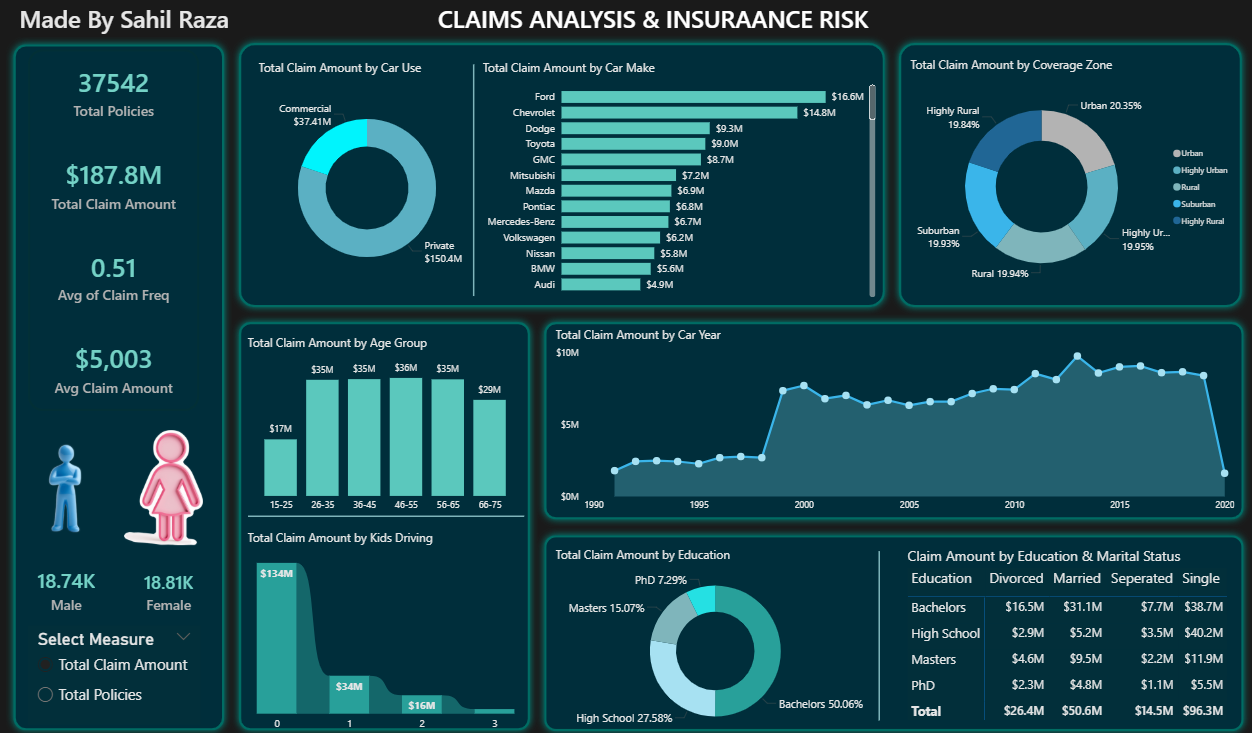

Layout of this report page (visuals, bound fields, positions):
{"tool":"powerbi","page":{"name":"Page 1","canvas":[1700,1000],"ordinal":0},"visuals":[{"type":"textbox","box":[584,2,606,52],"z":0},{"type":"shape","box":[14,54,304,944],"z":1000},{"type":"cardVisual","fields":{"Data":["insurance_data_car.Total Policies","insurance_data_car.Total Claim Amount","Avg(insurance_data_car.Claim Freq)","insurance_data_car.AVG Claim Amount"]},"box":[27.8,53.7,264.8,524.1],"z":2000},{"type":"cardVisual","fields":{"Data":["insurance_data_car.Male Count","insurance_data_car.Female Count"]},"box":[14.8,738.9,300,120.4],"z":3000},{"type":"image","box":[28.7,583.5,135,155],"z":4000},{"type":"image","box":[159.4,583.5,135,155],"z":5000},{"type":"slicer","fields":{"Values":["Select Measure.Select Measure"]},"box":[44,846,232,134],"z":6000},{"type":"shape","box":[318,52,890,376],"z":7000},{"type":"donutChart","fields":{"Y":["insurance_data_car.Total Claim Amount"],"Category":["insurance_data_car.Car Use"]},"box":[350,83.3,301.9,325.9],"z":8000},{"type":"clusteredBarChart","fields":{"Y":["insurance_data_car.Total Claim Amount"],"Category":["insurance_data_car.Car Make"]},"box":[651.9,83.3,538.9,325.9],"z":9000},{"type":"shape","box":[1208,52,482,376],"z":10000},{"type":"donutChart","fields":{"Y":["insurance_data_car.Total Claim Amount"],"Category":["insurance_data_car.Coverage Zone"]},"box":[1227.8,79.6,446.3,329.6],"z":11000},{"type":"shape","box":[318,428,412,570],"z":12000},{"type":"clusteredColumnChart","fields":{"Y":["insurance_data_car.Total Claim Amount"],"Category":["insurance_data_car.Age Group"]},"box":[335.2,453.7,381.5,248.1],"z":13000},{"type":"ribbonChart","fields":{"Y":["insurance_data_car.Total Claim Amount"],"Category":["insurance_data_car.Kids Driving"]},"box":[335.2,716.7,381.5,281.5],"z":14000},{"type":"shape","box":[730,428,962,286],"z":15000},{"type":"areaChart","fields":{"Y":["insurance_data_car.Total Claim Amount"],"Category":["insurance_data_car.Car Year"]},"box":[750,442,924,260],"z":16000},{"type":"shape","box":[730,714,962,284],"z":17000},{"type":"pieChart","fields":{"Y":["insurance_data_car.Total Claim Amount"],"Category":["insurance_data_car.Education"]},"box":[750,738,440,262],"z":18000},{"type":"textbox","box":[28,2,456,56],"z":19000},{"type":"pivotTable","title":"Claim Amount by Education & Marital Status","fields":{"Rows":["insurance_data_car.Education"],"Columns":["insurance_data_car.Marital Status"],"Values":["insurance_data_car.Total Claim Amount"]},"box":[1224,738,446,244],"z":20000},{"type":"shape","box":[340,684,372,32],"z":21000},{"type":"shape","box":[616,90,56,312],"z":21001},{"type":"shape","box":[1138,746,104,228],"z":21002}]}

Visuals, with their boxes in screenshot pixels (x1, y1, x2, y2), scaled from the page's 1700x1000 canvas onto the 1252x733 screenshot:
textbox: Rect(430, 1, 876, 40)
shape: Rect(10, 40, 234, 732)
cardVisual - insurance_data_car.Total Policies x insurance_data_car.Total Claim Amount: Rect(20, 39, 215, 424)
cardVisual - insurance_data_car.Male Count x insurance_data_car.Female Count: Rect(11, 542, 232, 630)
image: Rect(21, 428, 121, 541)
image: Rect(117, 428, 217, 541)
slicer - Select Measure.Select Measure: Rect(32, 620, 203, 718)
shape: Rect(234, 38, 890, 314)
donutChart - insurance_data_car.Total Claim Amount x insurance_data_car.Car Use: Rect(258, 61, 480, 300)
clusteredBarChart - insurance_data_car.Total Claim Amount x insurance_data_car.Car Make: Rect(480, 61, 877, 300)
shape: Rect(890, 38, 1245, 314)
donutChart - insurance_data_car.Total Claim Amount x insurance_data_car.Coverage Zone: Rect(904, 58, 1233, 300)
shape: Rect(234, 314, 538, 732)
clusteredColumnChart - insurance_data_car.Total Claim Amount x insurance_data_car.Age Group: Rect(247, 333, 528, 514)
ribbonChart - insurance_data_car.Total Claim Amount x insurance_data_car.Kids Driving: Rect(247, 525, 528, 732)
shape: Rect(538, 314, 1246, 523)
areaChart - insurance_data_car.Total Claim Amount x insurance_data_car.Car Year: Rect(552, 324, 1233, 515)
shape: Rect(538, 523, 1246, 732)
pieChart - insurance_data_car.Total Claim Amount x insurance_data_car.Education: Rect(552, 541, 876, 732)
textbox: Rect(21, 1, 356, 43)
"Claim Amount by Education & Marital Status" pivotTable: Rect(901, 541, 1230, 720)
shape: Rect(250, 501, 524, 525)
shape: Rect(454, 66, 495, 295)
shape: Rect(838, 547, 915, 714)
